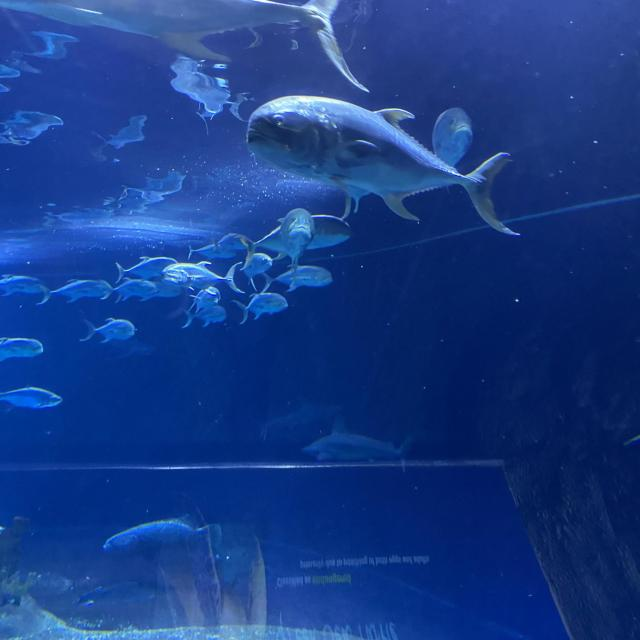fish: (243, 95, 524, 237), (104, 514, 218, 559), (257, 208, 315, 263), (163, 258, 248, 292), (185, 231, 255, 263), (37, 274, 111, 302), (232, 291, 290, 322), (0, 384, 64, 412), (113, 255, 178, 282), (78, 316, 140, 344), (264, 265, 334, 288), (0, 271, 50, 300), (106, 279, 164, 304), (184, 283, 224, 316), (0, 334, 45, 362), (181, 307, 229, 328)
shark: (0, 0, 384, 99), (304, 428, 413, 468), (260, 397, 344, 436)
